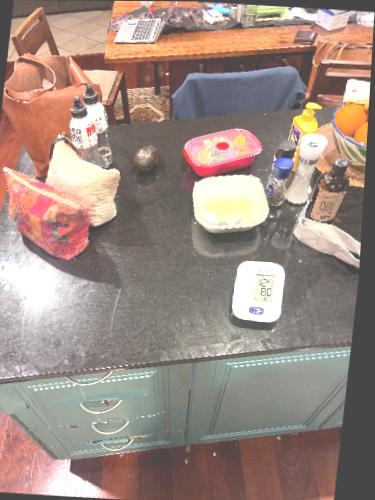bpm: (249, 272, 276, 301)
